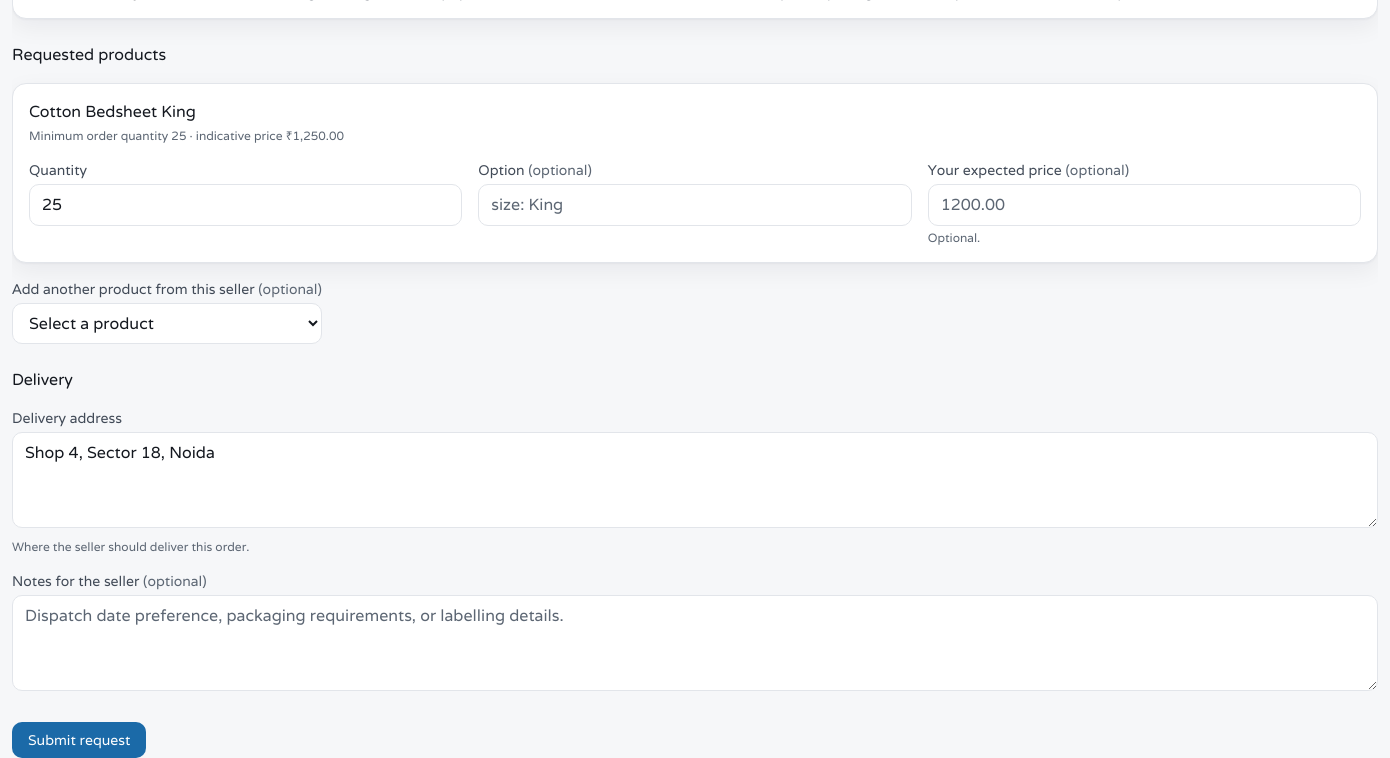
OrderRequestForm › reports a general failure without losing what was typed
(page scrolled)
Click the button "Submit request". click: (79,740)
box: [12, 722, 146, 757]
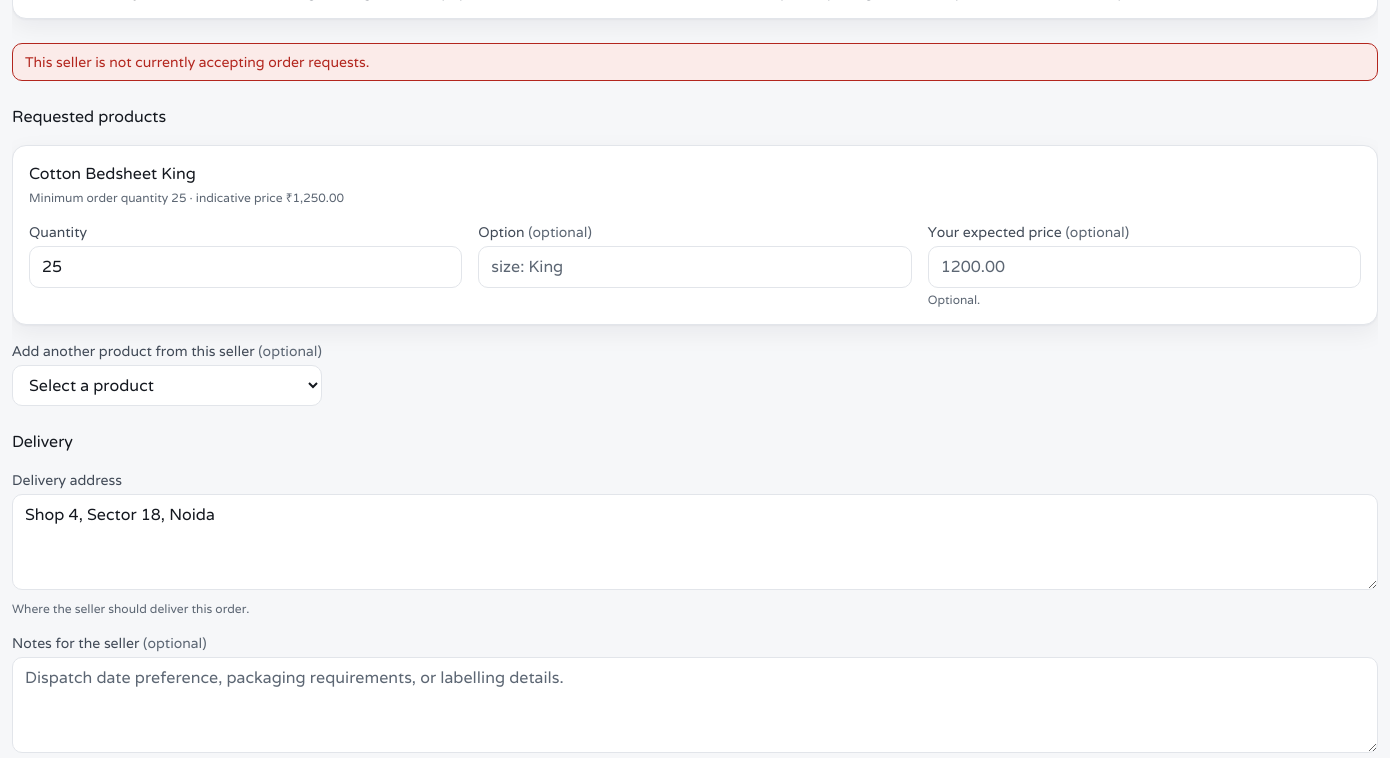
Expected: the field labelled "Quantity" holds "25", [29, 246, 462, 288]
Expected: the text "This seller is not currently accepting order requests." is shown, [12, 43, 1378, 81]
